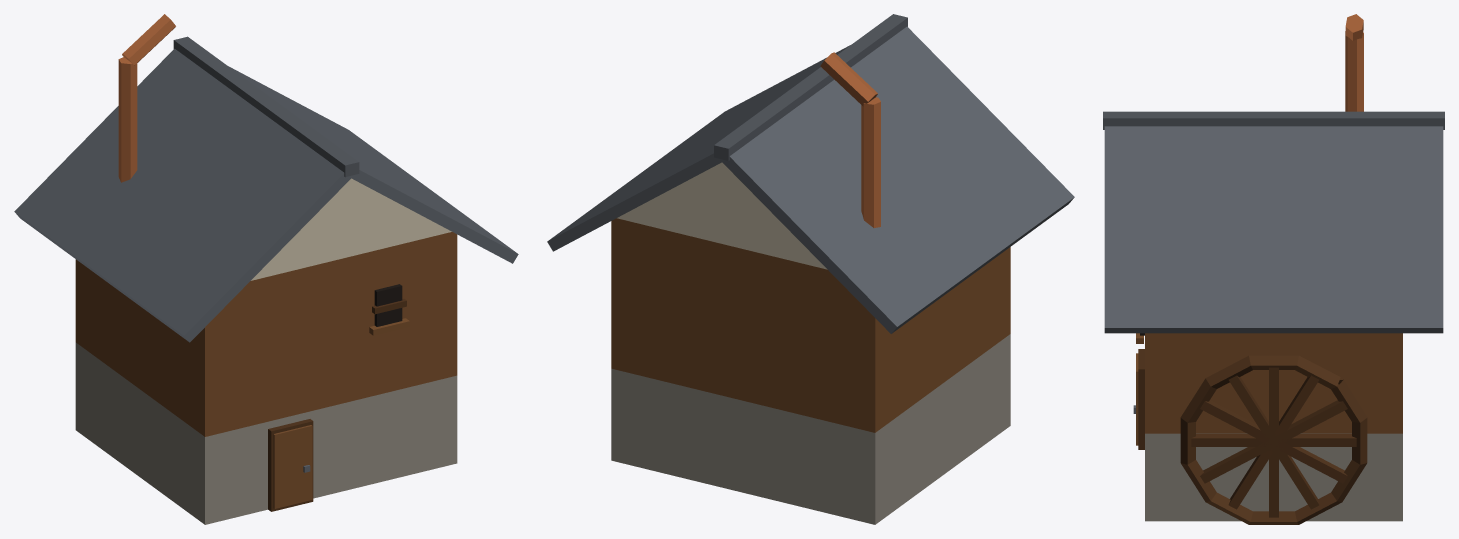
File: gnome_house_b.glb
3 renders of one model, left to right at view 1: azimuth 30°, elevation 25°; view 2: azimuth 150°, elevation 25°; view 3: azimuth 270°, elevation 25°, orthographic. The views are drawn at different scales.
Parts seen in each view (by area): view 1: gnome_house_b; view 2: gnome_house_b; view 3: gnome_house_b.
Boxes of the visible parts, x1,y1,x2,y2 form: gnome_house_b: (14, 14, 518, 524); gnome_house_b: (547, 14, 1074, 524); gnome_house_b: (1103, 14, 1444, 524).
Size of the model in its own units: 2.39 by 2.85 by 2.12.
